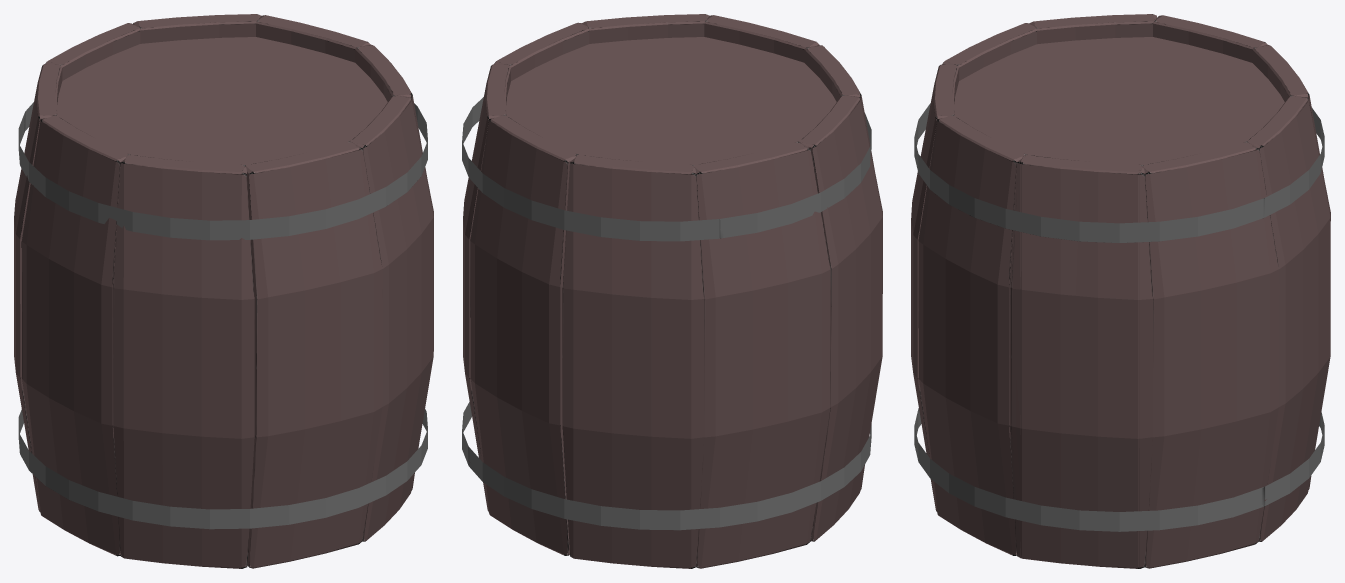
File: barrel with modifiers.fbx
3 renders of one model, left to right at view 1: azimuth 30°, elevation 25°; view 2: azimuth 150°, elevation 25°; view 3: azimuth 270°, elevation 25°, orthographic.
Parts seen in each view (by area): view 1: Barrel, Cylinder.002, Cylinder, Cylinder.003; view 2: Barrel, Cylinder.002, Cylinder, Cylinder.003; view 3: Barrel, Cylinder.002, Cylinder, Cylinder.003.
Boxes of the visible parts, x1,y1,x2,y2 form: Barrel: (14,14,433,568); Cylinder.002: (39,37,387,164); Cylinder: (18,102,427,240); Cylinder.003: (18,409,427,529); Barrel: (463,14,882,568); Cylinder.002: (488,37,836,164); Cylinder: (462,97,871,241); Cylinder.003: (462,402,871,530); Barrel: (911,14,1330,568); Cylinder.002: (936,37,1284,164); Cylinder: (914,103,1324,242); Cylinder.003: (914,408,1324,531).
Bounding box in the file's own units: 386 × 401 × 385.
4 materials, 4 textured.
